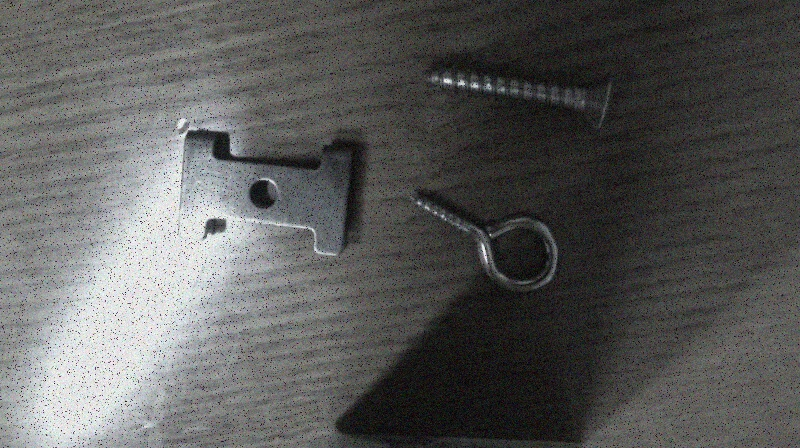O001: (407, 188, 562, 293)
O002: (176, 128, 357, 258)
S001: (417, 63, 618, 134)
